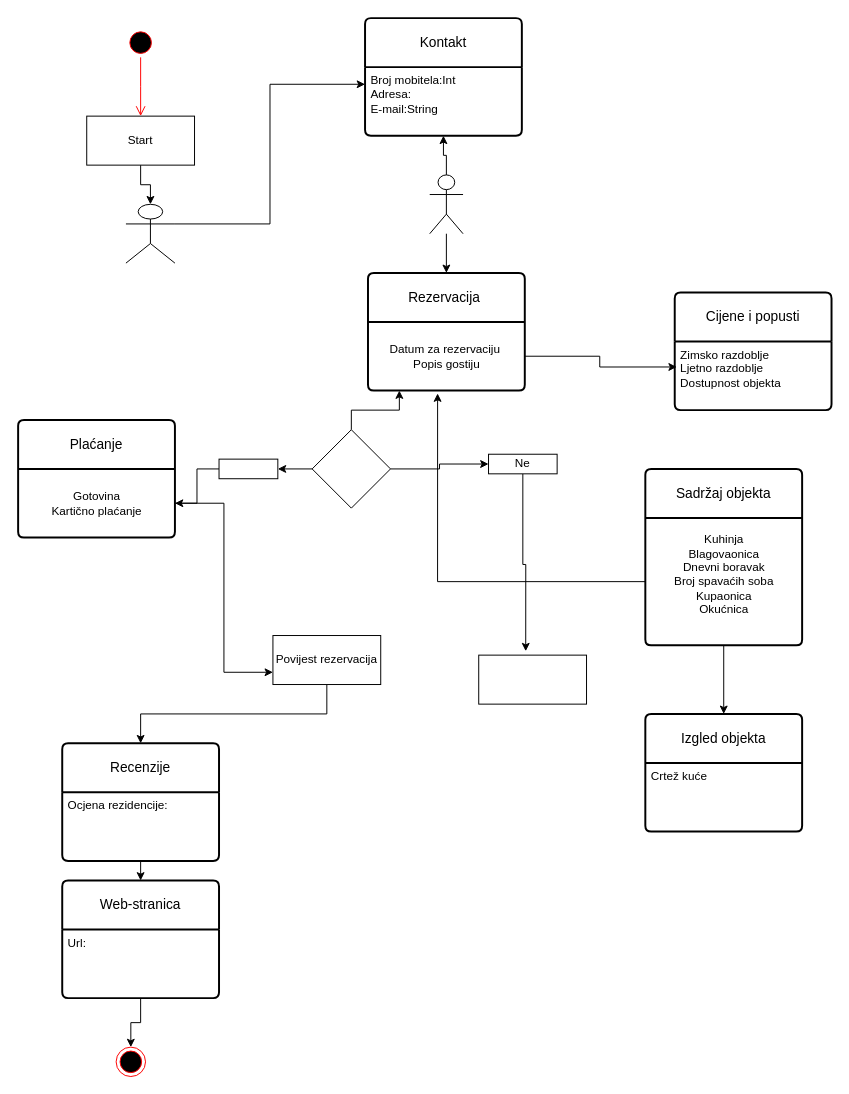
Image size: 849x1094. Some labels were removed from this diagram. The centre of each missing label's shape, as x and y in pixels:
"Admin" belongs at point (446, 204).
"Da" belongs at point (248, 468).
"Gost" belongs at point (150, 233).
"Prikaz:Rezervacija neuspješna" belongs at point (532, 679).
"Rezervacija uspješna" belongs at point (351, 468).
